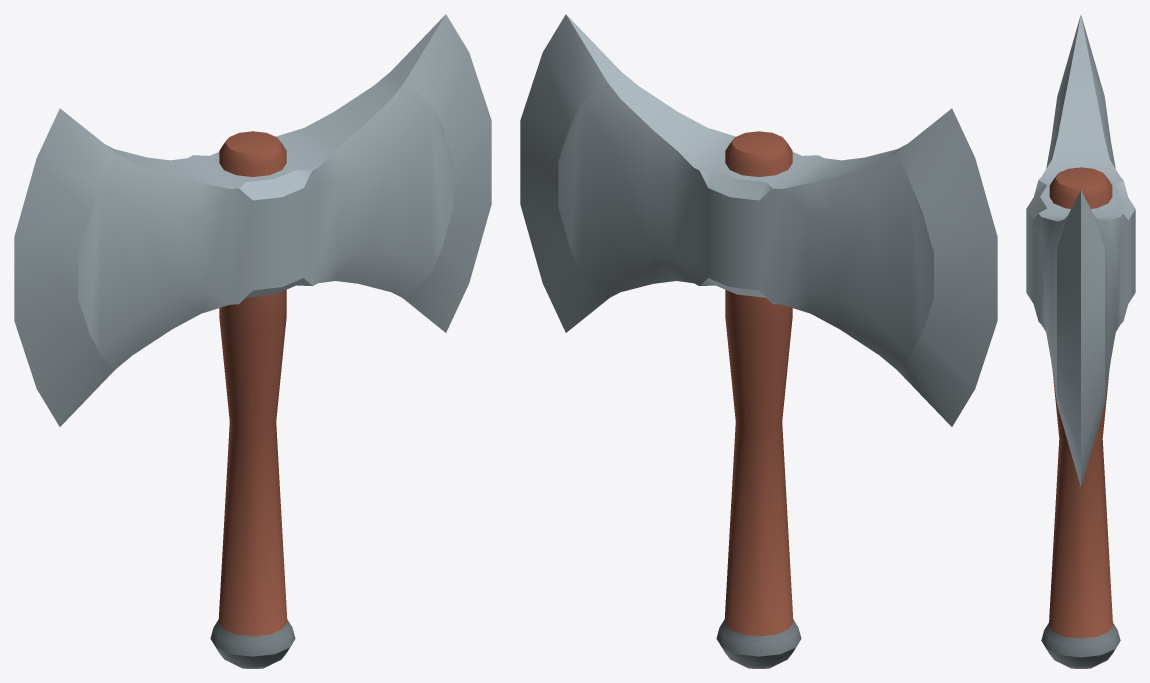
Rendered from kaykit-axedouble-uncommon.glb.
3 views of the same model, side by side, from view 1: azimuth 30°, elevation 25°; view 2: azimuth 150°, elevation 25°; view 3: azimuth 270°, elevation 25° (orthographic). The views are drawn at different scales.
Visible parts, largest first — view 1: axeDouble_uncommon; view 2: axeDouble_uncommon; view 3: axeDouble_uncommon.
Part boxes in pixels (<box>): axeDouble_uncommon: <box>14,14,491,668</box>; axeDouble_uncommon: <box>520,14,997,668</box>; axeDouble_uncommon: <box>1026,15,1135,668</box>.
Bounding box in the file's own units: 0.7926 × 0.9528 × 0.1685.
